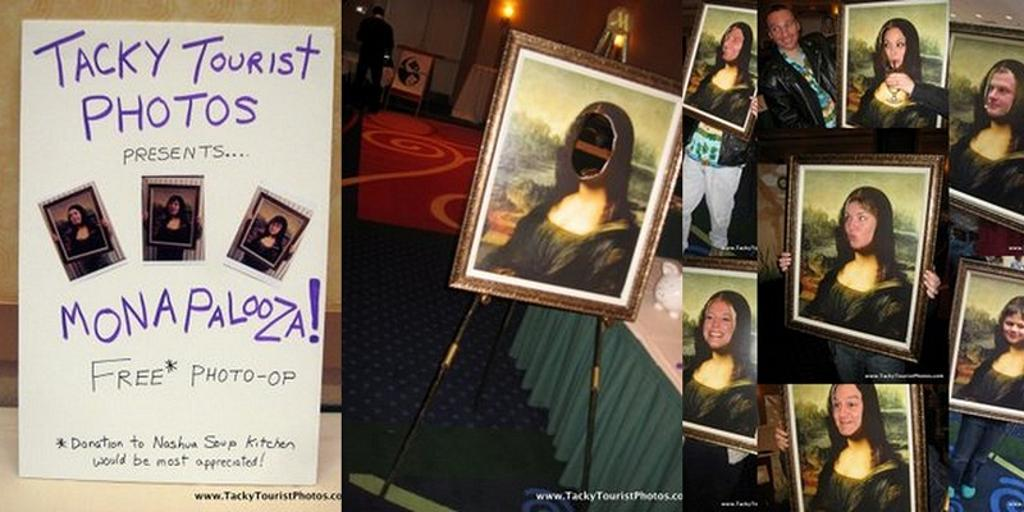face: (831, 386, 866, 437), (704, 300, 736, 349), (845, 204, 877, 249), (988, 74, 1018, 119), (768, 11, 798, 49), (884, 31, 908, 70), (1001, 306, 1024, 345), (723, 26, 743, 58), (69, 210, 82, 225), (269, 220, 282, 235), (170, 201, 181, 215)
